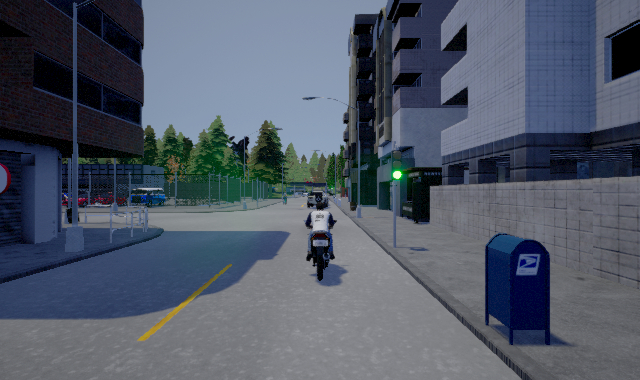motobike: (303, 205, 337, 281)
traffic_light: (391, 148, 402, 181)
traffic_sign: (1, 163, 11, 195)
vehicle: (131, 188, 166, 205), (302, 190, 329, 208)
